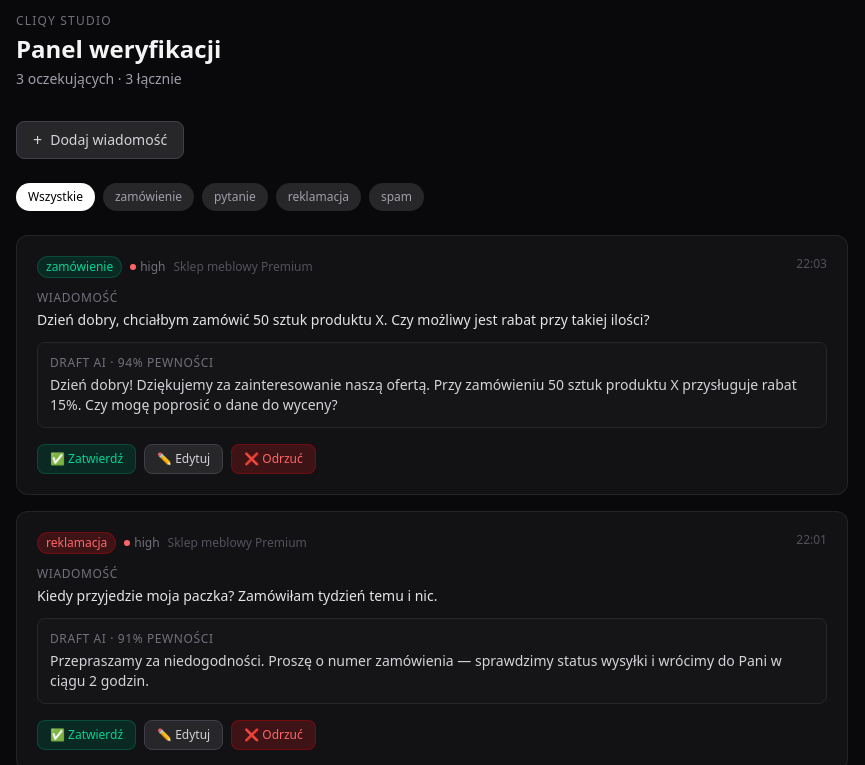
Test: QueuePage › edit mode › discards changes and exits edit mode on Anuluj
Step 1. Click the button "✏️ Edytuj" below "94" → click(184, 459), box [144,444,223,474]
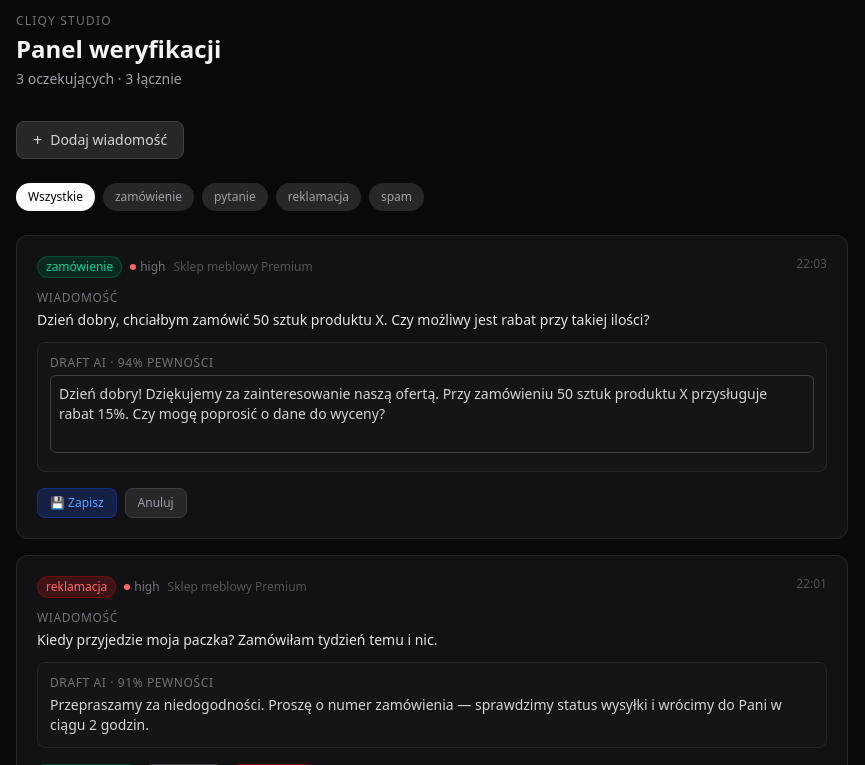
Step 2. Replace the text in the text box with "Zmieniony tekst" → (432, 414), box [50,375,814,453]
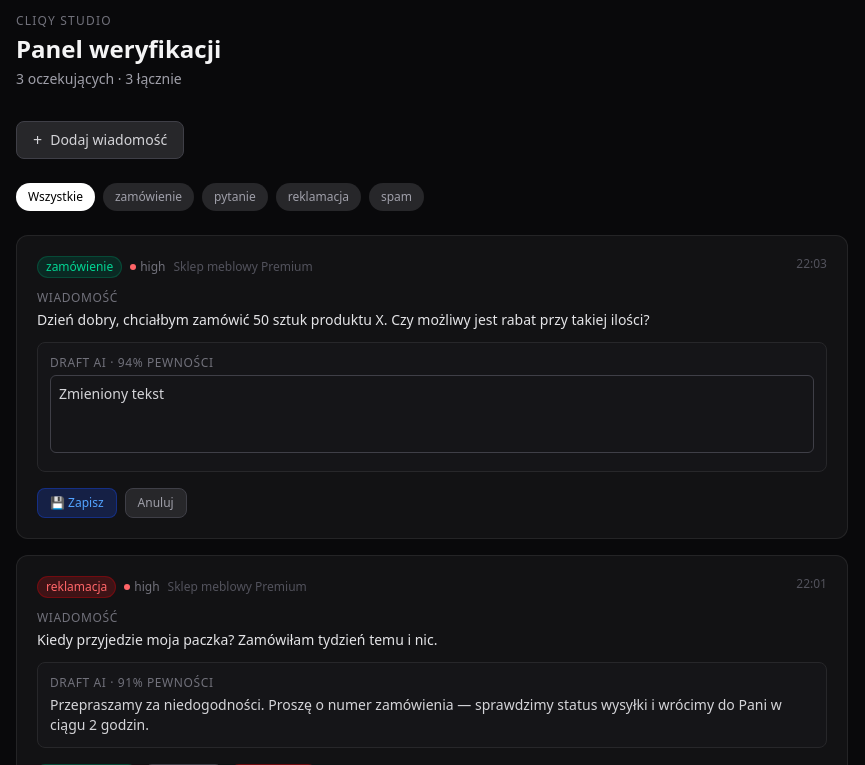
Step 3. Click the button "Anuluj" → click(156, 503), box [125,488,187,518]
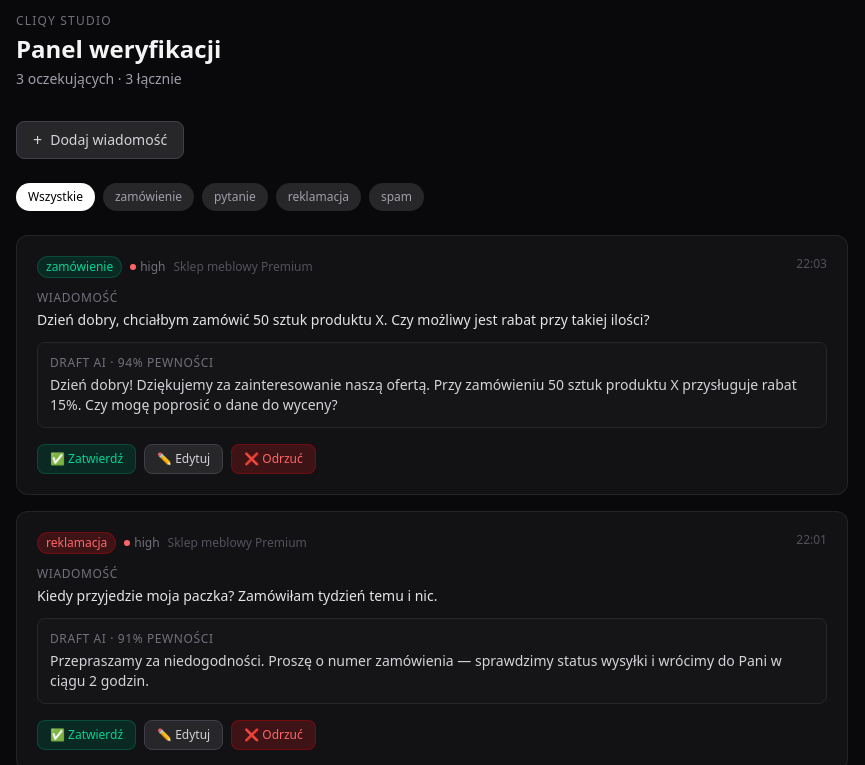
Expected: the text "Zmieniony tekst" is not shown
Result: the text "Dziękujemy za zainteresowanie" is shown at [50,375,797,414]
